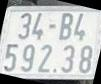-: (49, 23, 57, 29)
.: (53, 67, 58, 73)
2: (38, 44, 52, 74)
3: (60, 45, 75, 74), (18, 12, 31, 40)
4: (31, 13, 45, 40), (74, 14, 87, 41)
5: (4, 43, 19, 72)
8: (79, 45, 92, 74)
9: (21, 44, 36, 74)
B: (59, 12, 73, 40)
